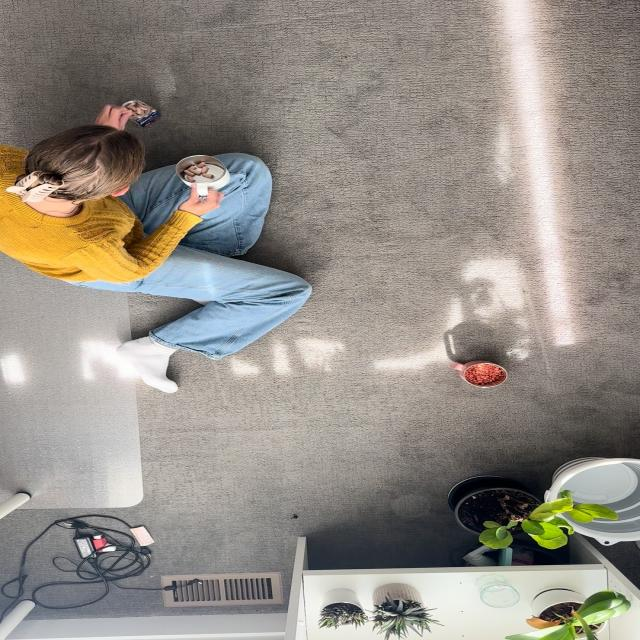IBC: (175, 155, 229, 198), (451, 360, 507, 388)
